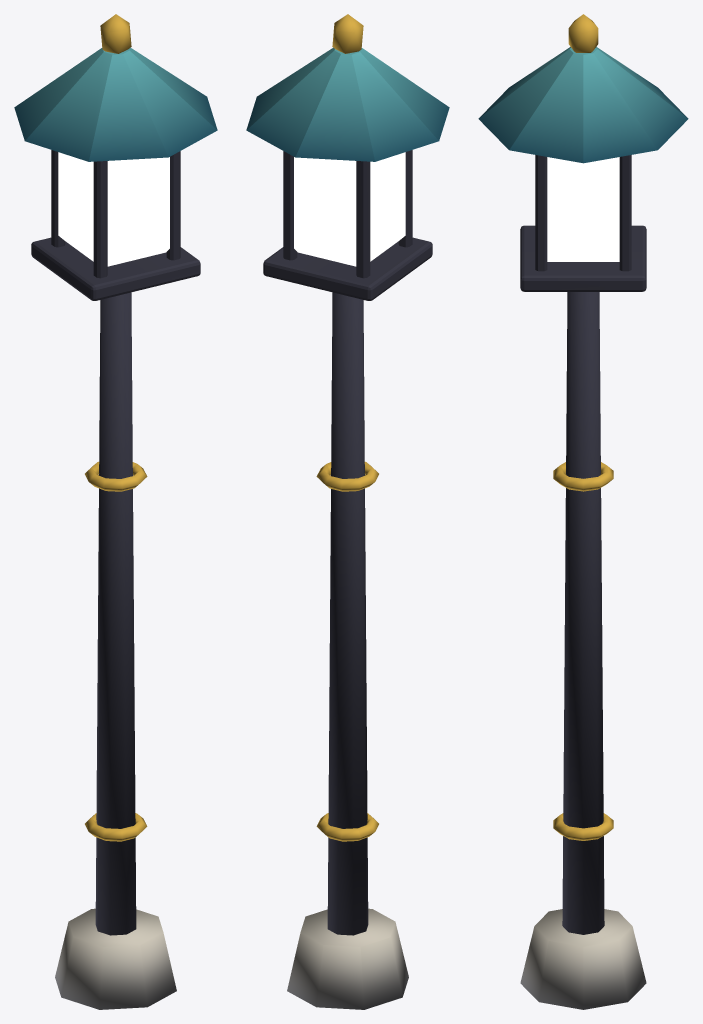
File: lantern.glb
3 renders of one model, left to right at view 1: azimuth 30°, elevation 25°; view 2: azimuth 150°, elevation 25°; view 3: azimuth 270°, elevation 25°, orthographic.
Parts seen in each view (by area): view 1: Lantern, Glow; view 2: Lantern, Glow; view 3: Lantern, Glow.
Boxes of the visible parts, x1=… form: Lantern: x1=14, y1=14, x2=217, y2=1009; Glow: x1=58, y1=152, x2=169, y2=266; Lantern: x1=246, y1=14, x2=449, y2=1009; Glow: x1=294, y1=152, x2=405, y2=266; Lantern: x1=478, y1=14, x2=688, y2=1009; Glow: x1=547, y1=157, x2=619, y2=261.
Size of the model in its own units: 0.6 by 3.05 by 0.6.
